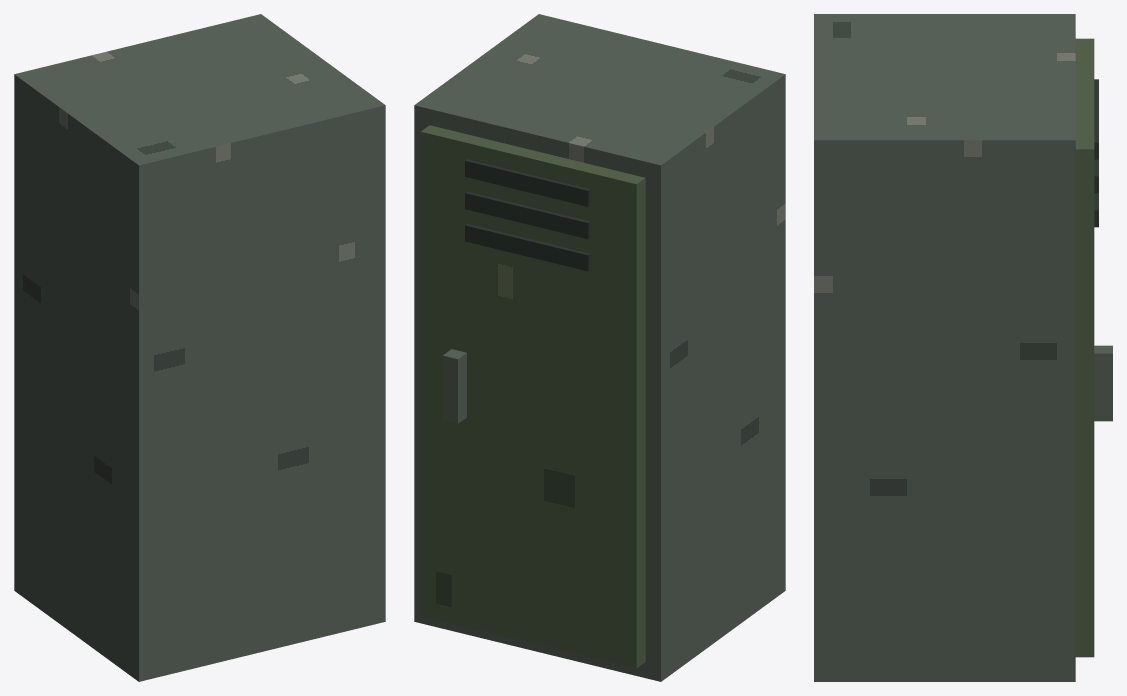
The model's file is locker.gltf.
The picture shows the model from 3 angles, left to right: view 1: azimuth 30°, elevation 25°; view 2: azimuth 150°, elevation 25°; view 3: azimuth 270°, elevation 25°; orthographic projection. The views are drawn at different scales.
Visible parts, largest first — view 1: body; view 2: body, panel, vent (×3), handle; view 3: body, panel, handle.
Boxes of the visible parts, x1=… form: body: x1=14, y1=14, x2=385, y2=681; body: x1=414, y1=14, x2=785, y2=681; panel: x1=420, y1=125, x2=645, y2=668; vent (×3): x1=465, y1=159, x2=590, y2=271; handle: x1=442, y1=349, x2=466, y2=423; body: x1=814, y1=14, x2=1075, y2=681; panel: x1=1075, y1=38, x2=1094, y2=657; handle: x1=1094, y1=345, x2=1112, y2=421.
Bounding box in the file's own units: 1 × 2 × 1.
Materials: 3 (3 with a texture image).
